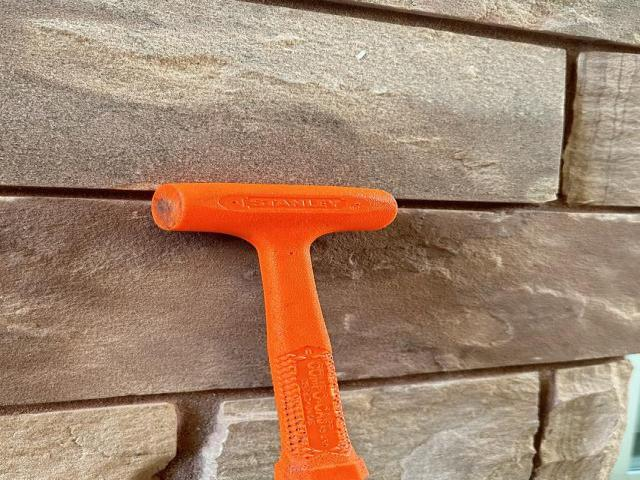hammer: (146, 185, 398, 480)
